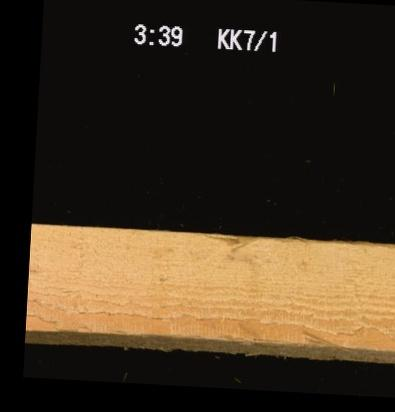split: (226, 234, 262, 252)
